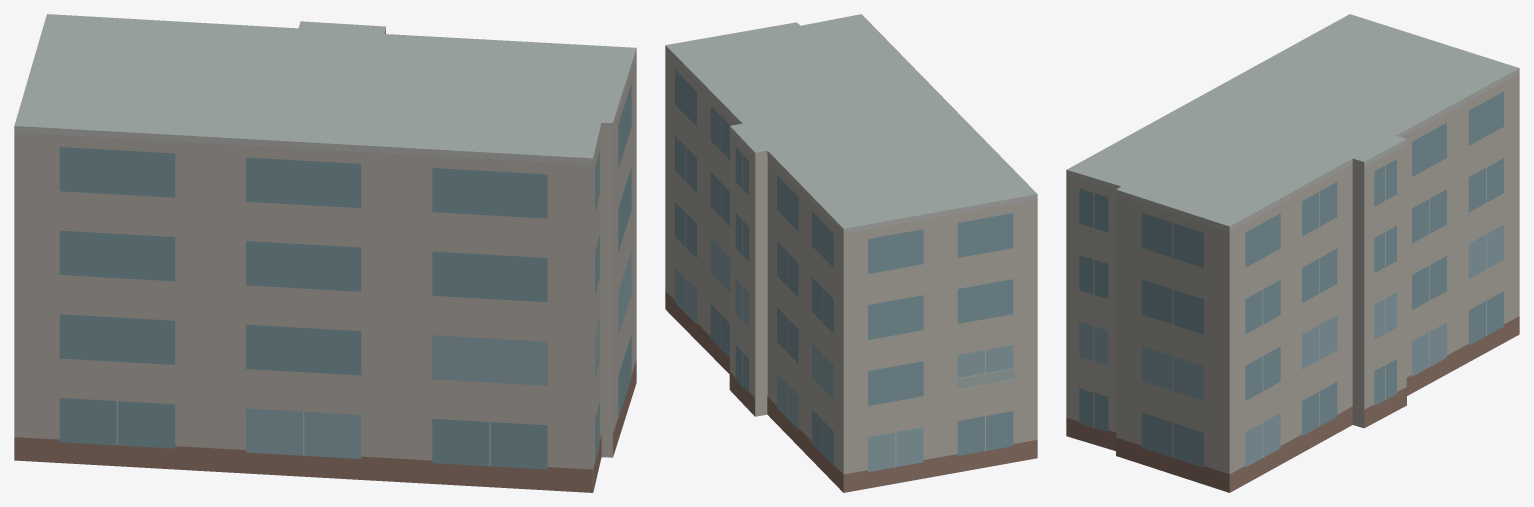
Rendered from survey-upis-32737101.glb.
3 renders of one model, left to right at view 1: azimuth 30°, elevation 25°; view 2: azimuth 150°, elevation 25°; view 3: azimuth 270°, elevation 25°, orthographic. The views are drawn at different scales.
Visible parts, largest first — view 1: survey-upis-32737101.tmp; view 2: survey-upis-32737101.tmp; view 3: survey-upis-32737101.tmp.
Boxes of the visible parts, box(x1,y1,x2,y2) form: survey-upis-32737101.tmp: box(14, 14, 636, 492); survey-upis-32737101.tmp: box(665, 14, 1037, 492); survey-upis-32737101.tmp: box(1066, 14, 1519, 492).
Bounding box in the file's own units: 21.91 × 12.8 × 19.74.
